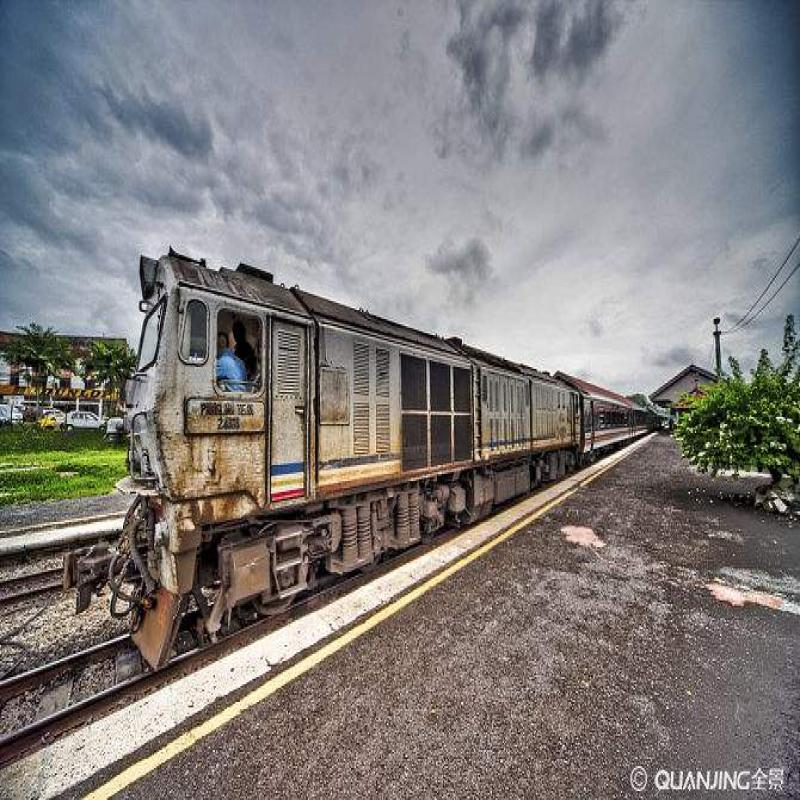train: (121, 243, 589, 648)
